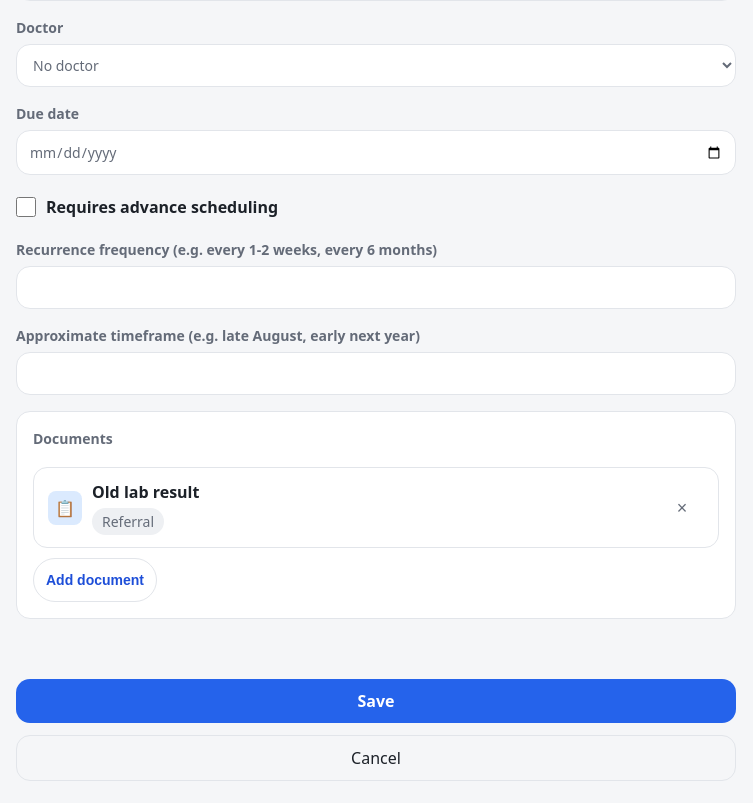
TaskFormScreen › document attach/upload/detach › excludes already-staged existing documents from the picker's own results
(page scrolled)
Click the button "Add document" at (95, 580), box [33,558,157,602]
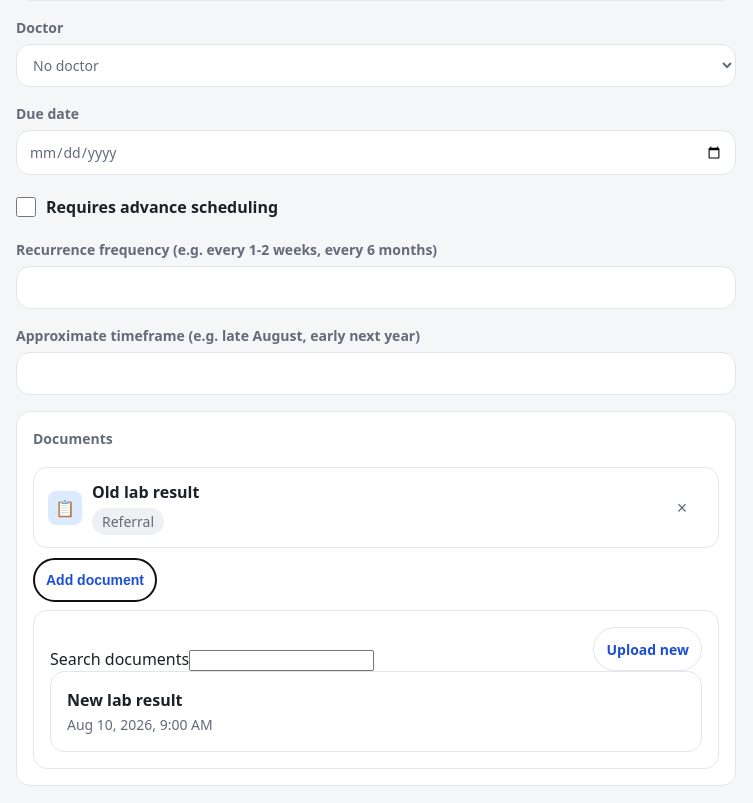
Expected: the text "New lab result" is shown, [67,689,182,711]
